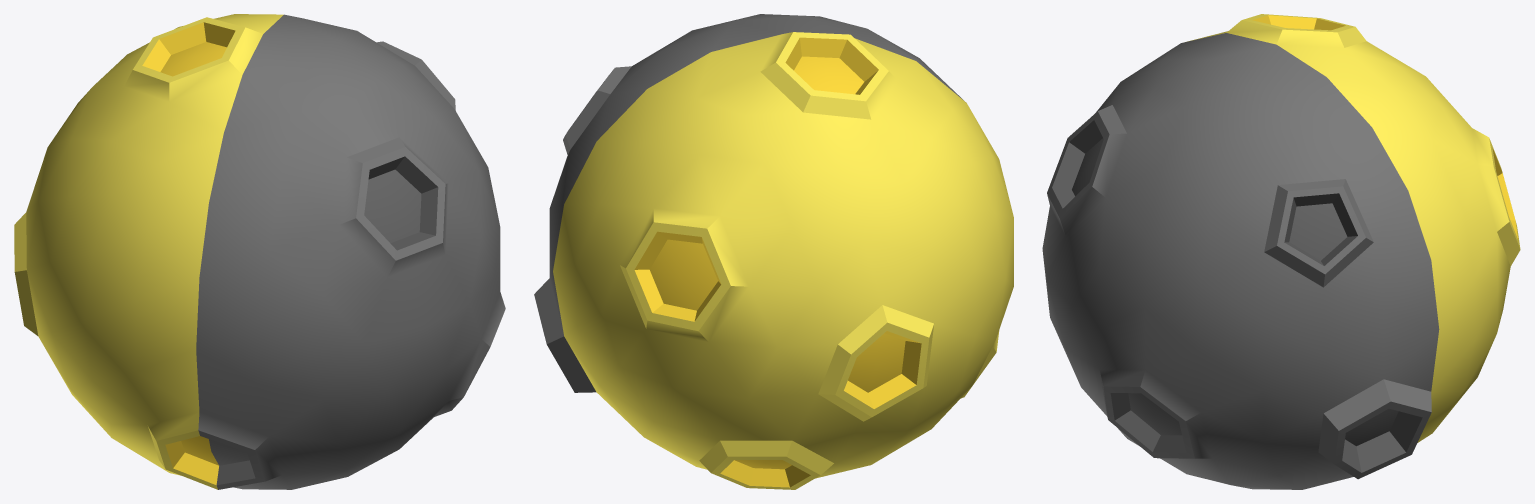
The model's file is Waning_Crescent_Moon.gltf.
3 renders of one model, left to right at view 1: azimuth 30°, elevation 25°; view 2: azimuth 150°, elevation 25°; view 3: azimuth 270°, elevation 25°, orthographic. The views are drawn at different scales.
Parts seen in each view (by area): view 1: Icosphere.007; view 2: Icosphere.007; view 3: Icosphere.007.
Boxes of the visible parts, <box> form: Icosphere.007: <box>14,14,505,489</box>; Icosphere.007: <box>534,14,1013,489</box>; Icosphere.007: <box>1042,14,1520,489</box>.
Size of the model in its own units: 1.97 by 2.04 by 2.03.
1 material, 1 textured.
